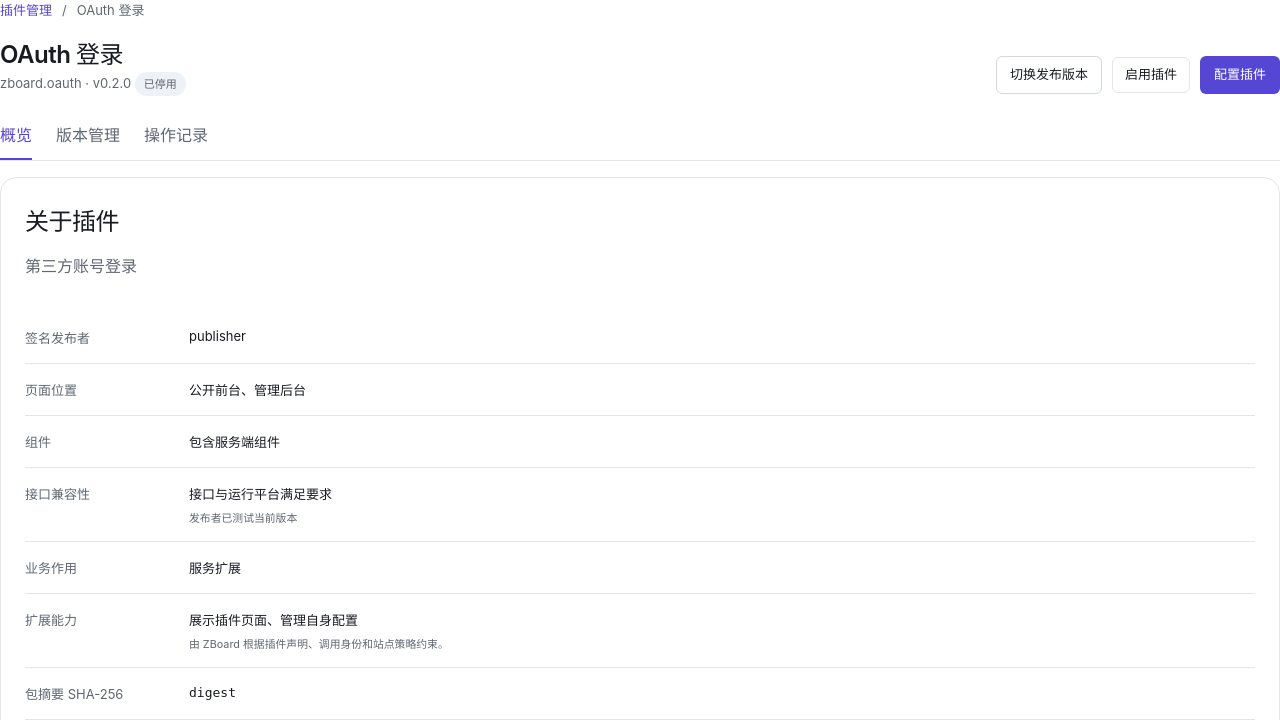
Test case: plugin management navigation › shows the host failure without a false success: plugin changed; refresh and retry
Step 1. Click the button "启用插件" → (1151, 74), box [1112, 56, 1190, 92]
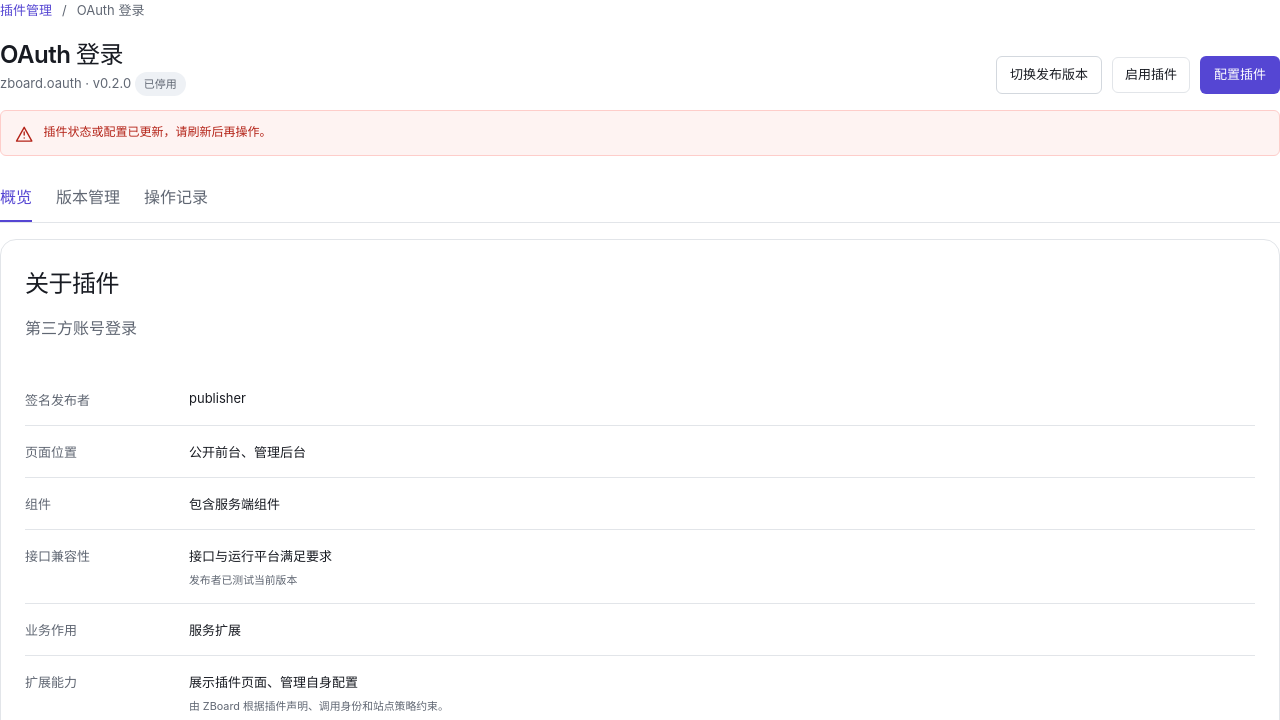
Now the text "插件状态或配置已更新，请刷新后再操作。" is shown, box [43, 124, 271, 138]
